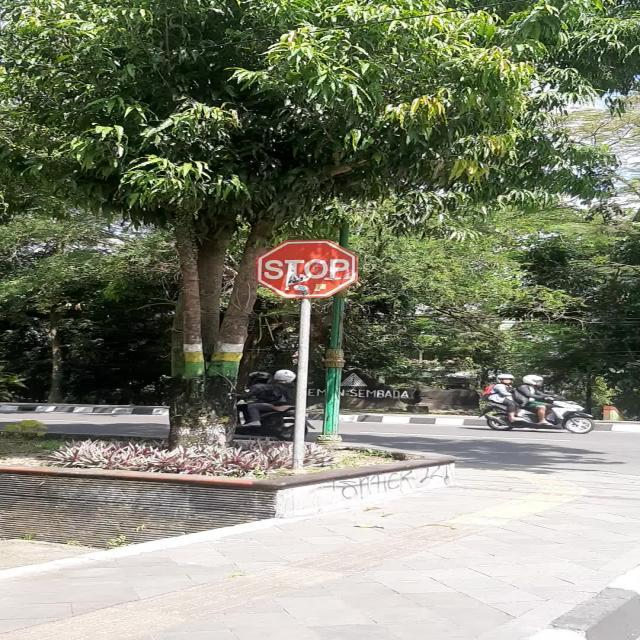Berhenti: (255, 240, 358, 298)
